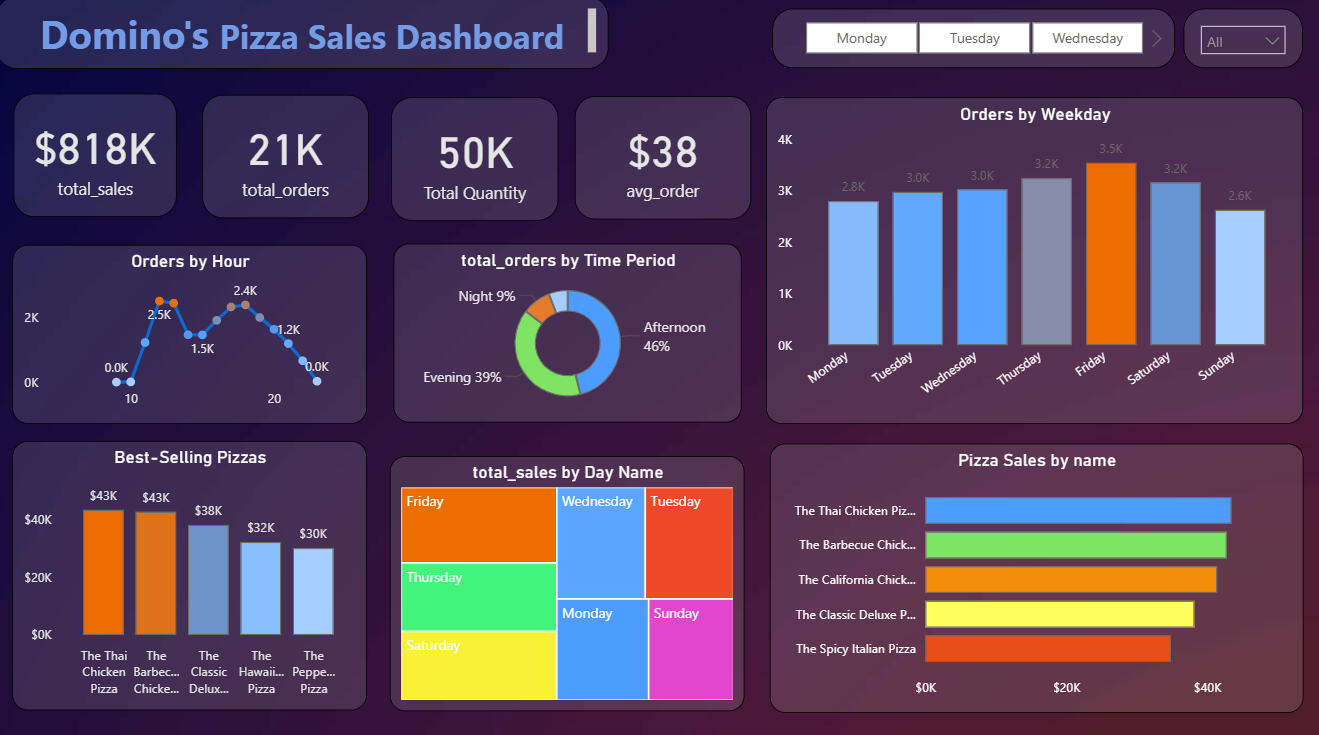

Layout of this report page (visuals, bound fields, positions):
{"tool":"powerbi","page":{"name":"Page 3","canvas":[1280,720],"ordinal":0},"visuals":[{"type":"textbox","box":[0,0,591.2,70],"z":0},{"type":"columnChart","title":"Orders by Weekday","fields":{"Category":["orders.Day Name"],"Y":["order_details.total_orders"]},"box":[743.8,97.5,518.8,315],"z":1000},{"type":"barChart","fields":{"Y":["orders.Pizza Sales"],"Category":["pizza_type.name"]},"box":[746.2,432.5,515,260],"z":2000},{"type":"donutChart","fields":{"Category":["orders.Time Period"],"Y":["order_details.total_orders"]},"box":[383.1,238.8,335.9,172.9],"z":3000},{"type":"card","fields":{"Values":["order_details.total_sales"]},"box":[16.5,93.6,157.8,119.4],"z":4000},{"type":"card","fields":{"Values":["order_details.total_orders"]},"box":[199,95.2,160.5,119.4],"z":5000},{"type":"card","fields":{"Values":["order_details.Total Quantity"]},"box":[381.8,97.2,161.9,119.4],"z":6000},{"type":"card","fields":{"Values":["order_details.avg_order"]},"box":[559,96.3,170.2,119.4],"z":7000},{"type":"columnChart","title":"Best-Selling Pizzas","fields":{"Category":["pizza_type.name"],"Y":["order_details.total_sales"]},"box":[16.2,430,342.5,260],"z":8000},{"type":"lineChart","title":"Orders by Hour","fields":{"Category":["orders.Hour"],"Y":["order_details.total_orders"]},"box":[15.7,240.1,342.6,172.5],"z":9000},{"type":"slicer","fields":{"Values":["orders.Day Name"]},"box":[748.8,12.5,388.8,57.5],"z":10000},{"type":"slicer","fields":{"Values":["orders.Time Period"]},"box":[1146.2,12.5,115,57.5],"z":11000},{"type":"treemap","fields":{"Group":["orders.Day Name"],"Values":["order_details.total_sales"]},"box":[380,444,342.6,246.1],"z":11001}]}

Visuals, with their boxes in screenshot pixels (x1, y1, x2, y2), scaled from the page's 1280x720 canvas onto the 1319x735 screenshot:
textbox: (x1=0, y1=0, x2=609, y2=71)
"Orders by Weekday" columnChart: (x1=766, y1=100, x2=1301, y2=421)
barChart - orders.Pizza Sales x pizza_type.name: (x1=769, y1=442, x2=1300, y2=707)
donutChart - orders.Time Period x order_details.total_orders: (x1=395, y1=244, x2=741, y2=420)
card - order_details.total_sales: (x1=17, y1=96, x2=180, y2=217)
card - order_details.total_orders: (x1=205, y1=97, x2=370, y2=219)
card - order_details.Total Quantity: (x1=393, y1=99, x2=560, y2=221)
card - order_details.avg_order: (x1=576, y1=98, x2=751, y2=220)
"Best-Selling Pizzas" columnChart: (x1=17, y1=439, x2=370, y2=704)
"Orders by Hour" lineChart: (x1=16, y1=245, x2=369, y2=421)
slicer - orders.Day Name: (x1=772, y1=13, x2=1172, y2=71)
slicer - orders.Time Period: (x1=1181, y1=13, x2=1300, y2=71)
treemap - orders.Day Name x order_details.total_sales: (x1=392, y1=453, x2=745, y2=704)
